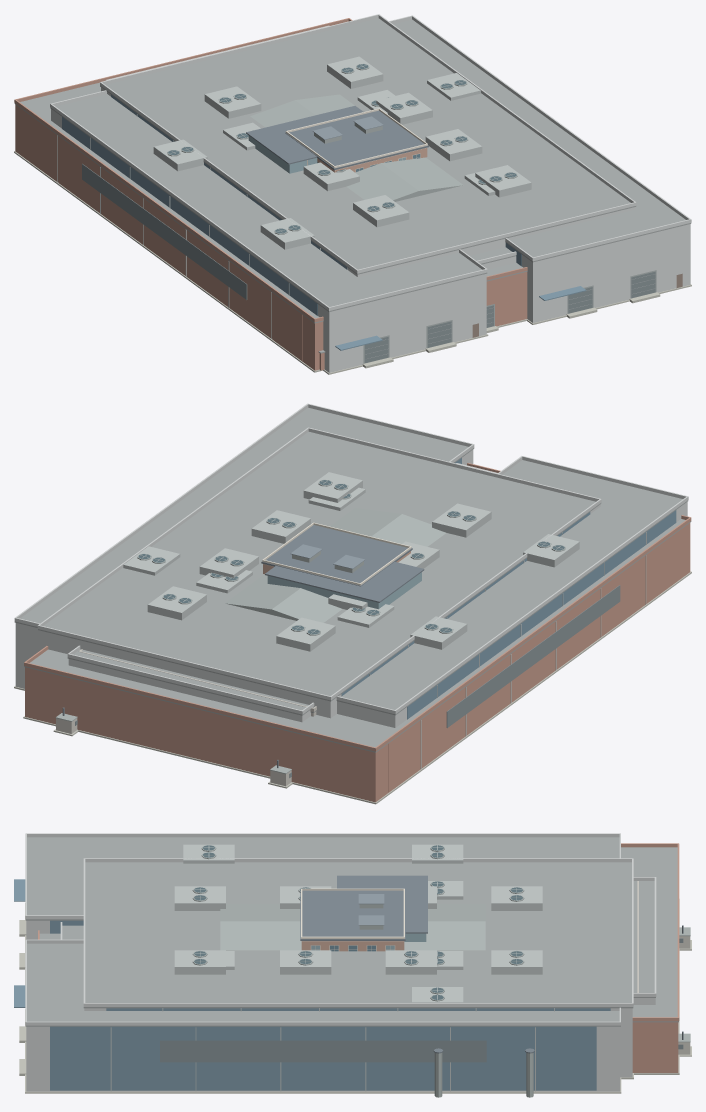
The model's file is kit.glb.
3 views of the same model, one above another, from view 1: azimuth 30°, elevation 25°; view 2: azimuth 150°, elevation 25°; view 3: azimuth 270°, elevation 25° (orthographic). The views are drawn at different scales.
Visible parts, largest first — view 1: dc-cooling-hall, dc-hyperscale-campus, dc-brick-retrofit, office-midrise, airport-aircraft-hangar, office-retail-court, dc-cloud-hall; view 2: dc-cooling-hall, dc-brick-retrofit, dc-hyperscale-campus, office-midrise, airport-aircraft-hangar, dc-cloud-hall, office-retail-court; view 3: dc-hyperscale-campus, dc-cooling-hall, dc-brick-retrofit, office-midrise, airport-aircraft-hangar, dc-cloud-hall, office-retail-court.
Boxes of the visible parts, x1,y1,x2,y2 form: dc-cooling-hall: (100, 14, 636, 276); dc-hyperscale-campus: (50, 15, 691, 374); dc-brick-retrofit: (14, 18, 527, 372); office-midrise: (285, 108, 428, 172); airport-aircraft-hangar: (250, 94, 463, 201); office-retail-court: (246, 106, 363, 173); dc-cloud-hall: (105, 25, 516, 269); dc-cooling-hall: (37, 427, 601, 718); dc-brick-retrofit: (23, 463, 691, 804); dc-hyperscale-campus: (14, 403, 688, 788); office-midrise: (261, 522, 412, 586); airport-aircraft-hangar: (225, 508, 445, 622); dc-cloud-hall: (67, 463, 497, 722); office-retail-court: (265, 562, 424, 609); dc-hyperscale-campus: (14, 833, 691, 1093); dc-cooling-hall: (83, 858, 633, 1079); dc-brick-retrofit: (38, 843, 679, 1097); office-midrise: (300, 888, 405, 951); airport-aircraft-hangar: (220, 903, 485, 950); dc-cloud-hall: (60, 877, 656, 1004); office-retail-court: (337, 875, 427, 941).
Bounding box in the file's own units: 82.05 × 17.32 × 119.
